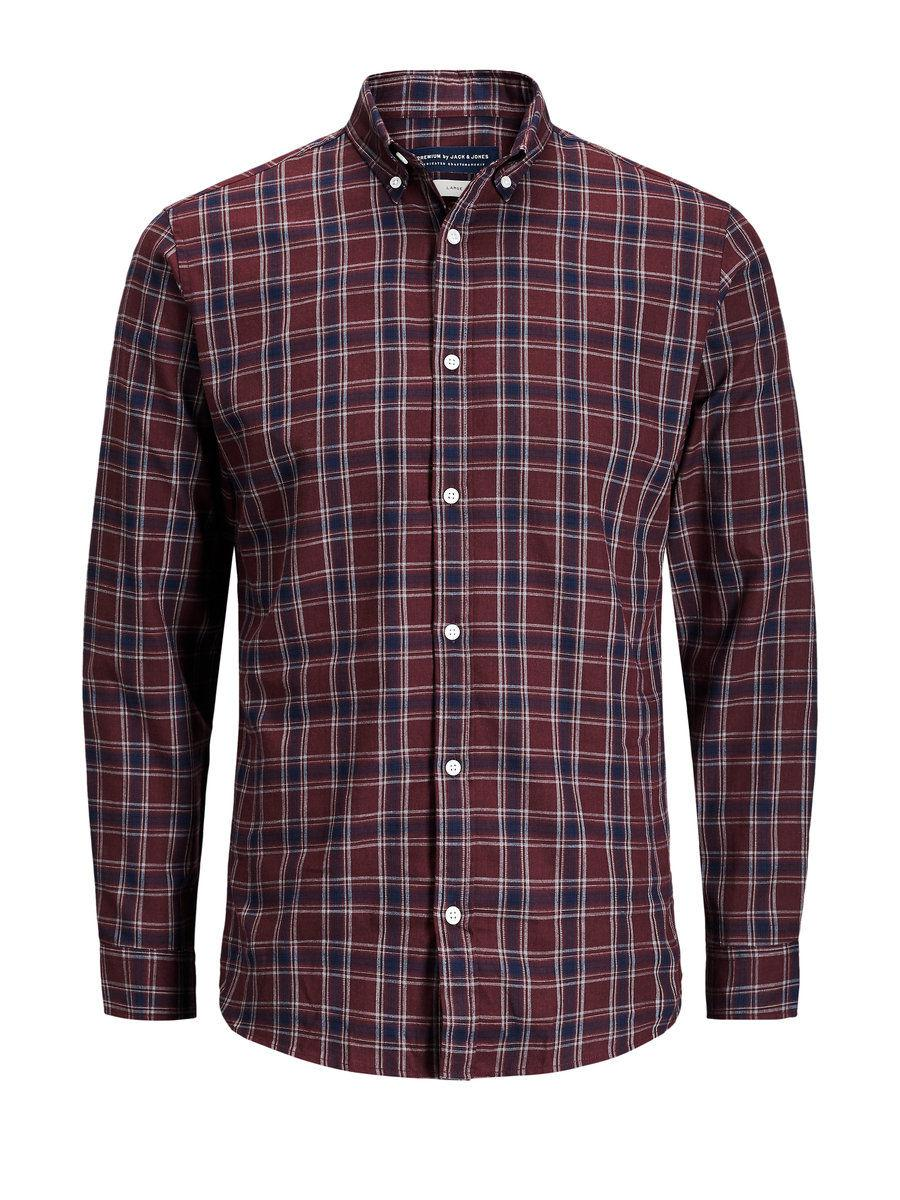teeshirt: (60, 60, 832, 1069)
